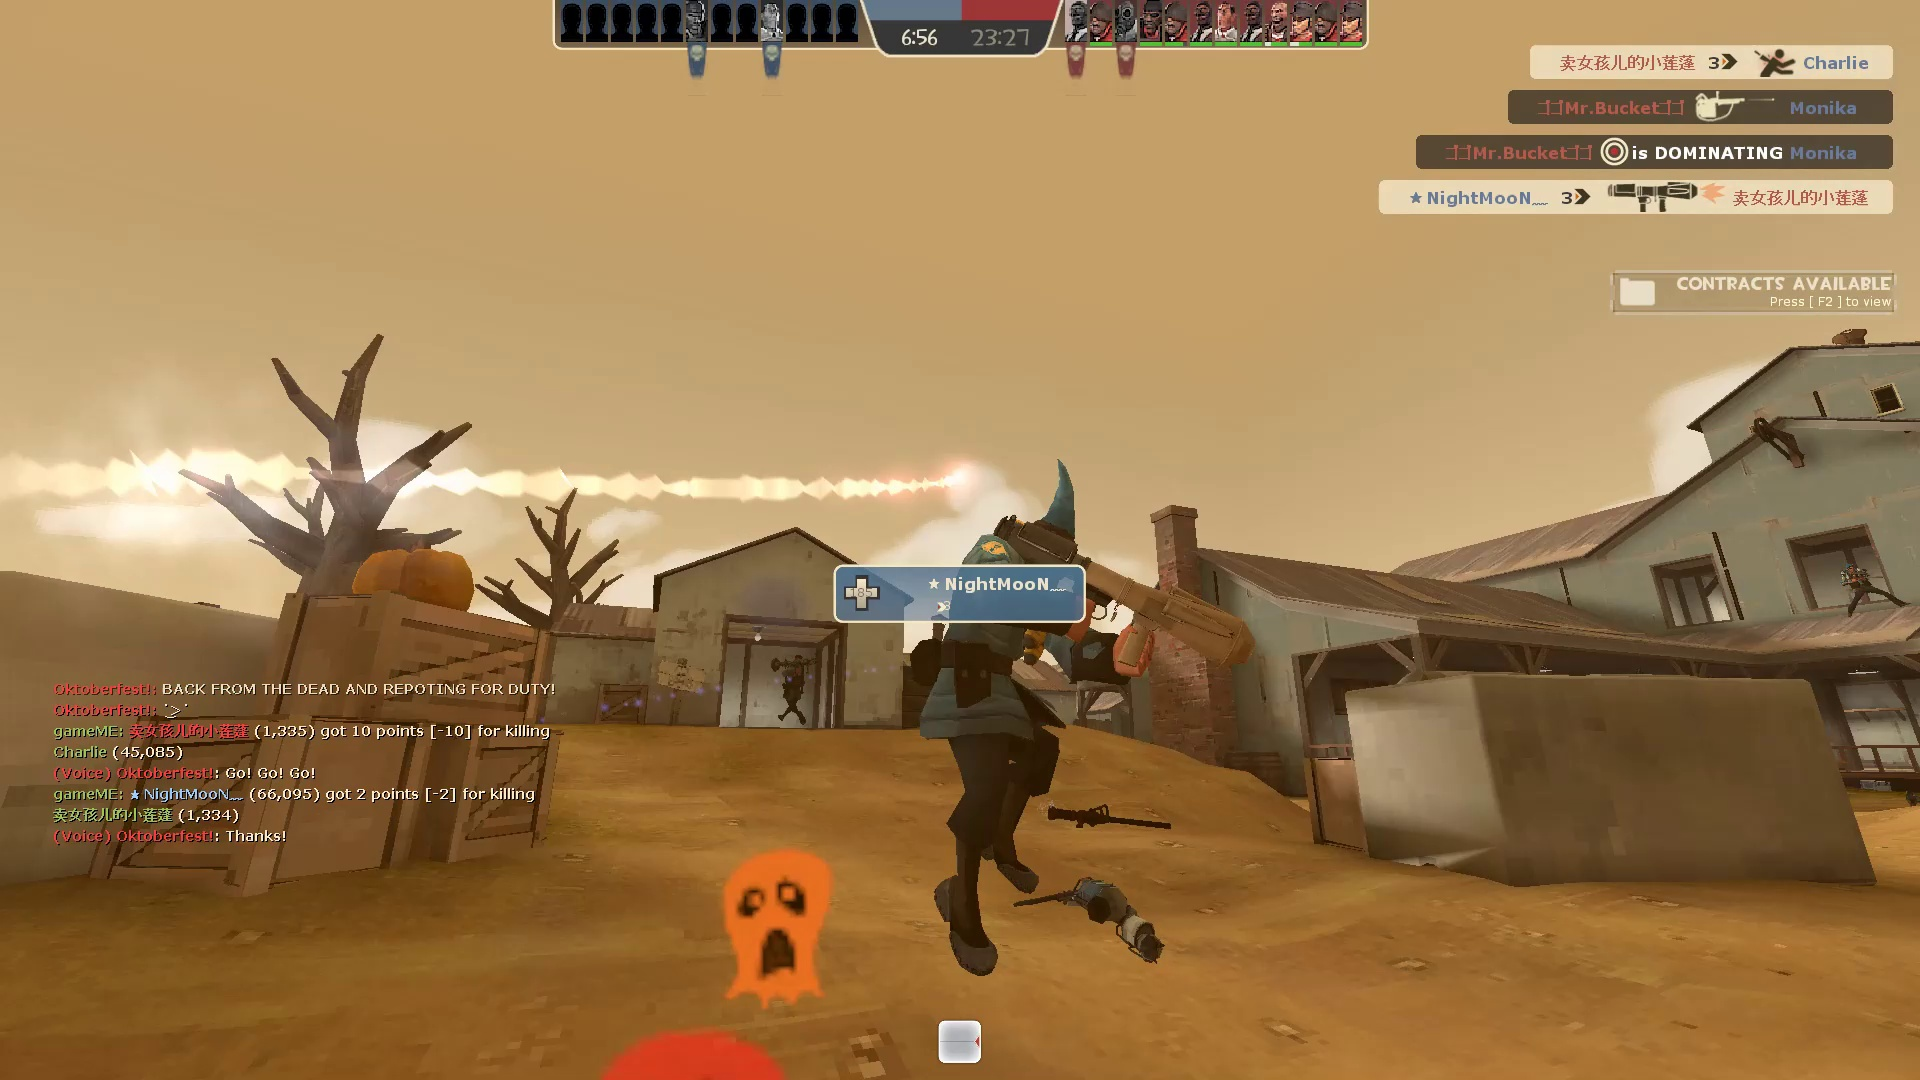blu_soldier: (853, 458, 1270, 985), (764, 654, 818, 728)
